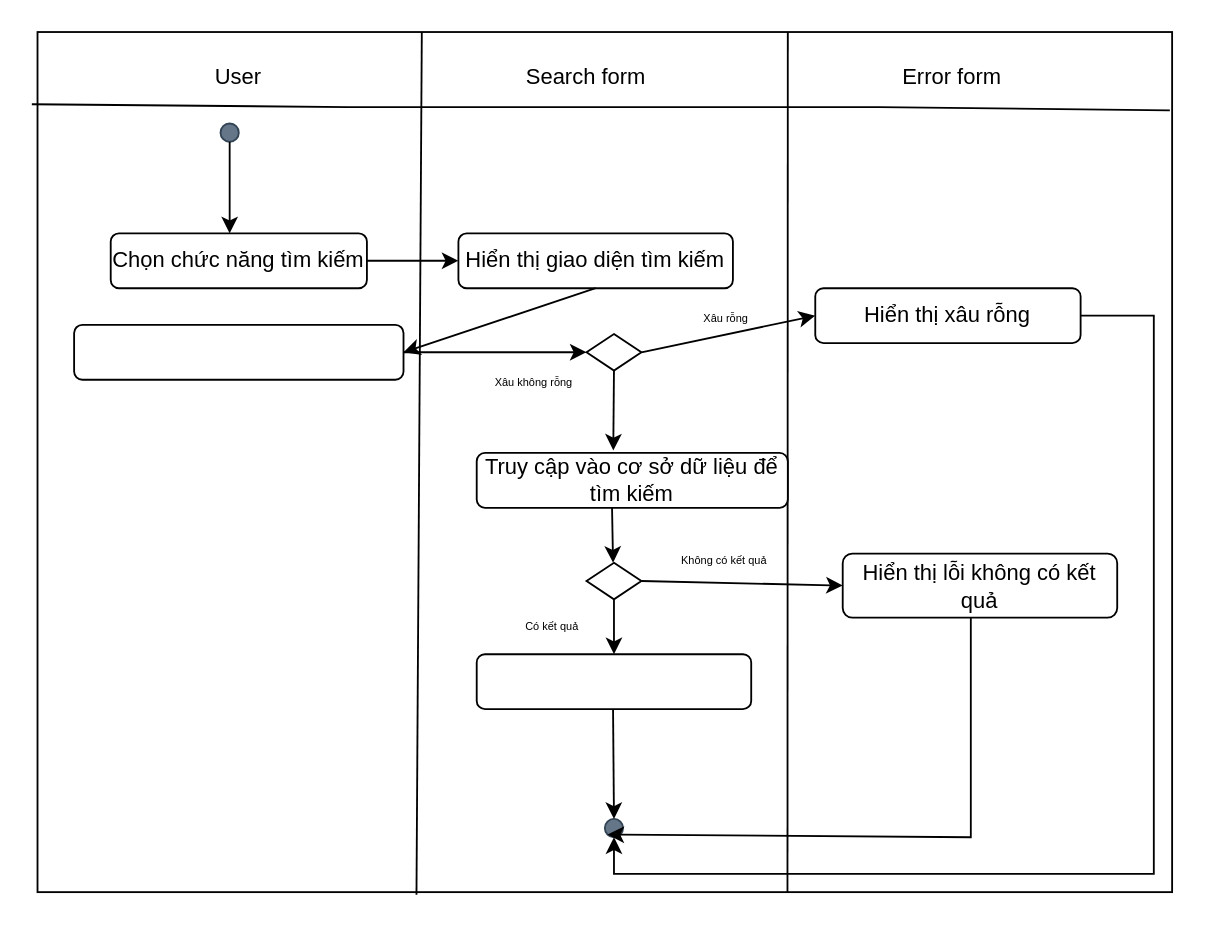
The diagram is 1206 pixels wide and 930 high, and some of its shapes have lost their labels. Here are the shapes that lost their labels. From the top down, the box of each, then its label:
(72, 323, 404, 380): Nhập từ khóa vào thanh tìm kiếm
(475, 652, 751, 709): Hiển thị kết quả tìm kiếm
